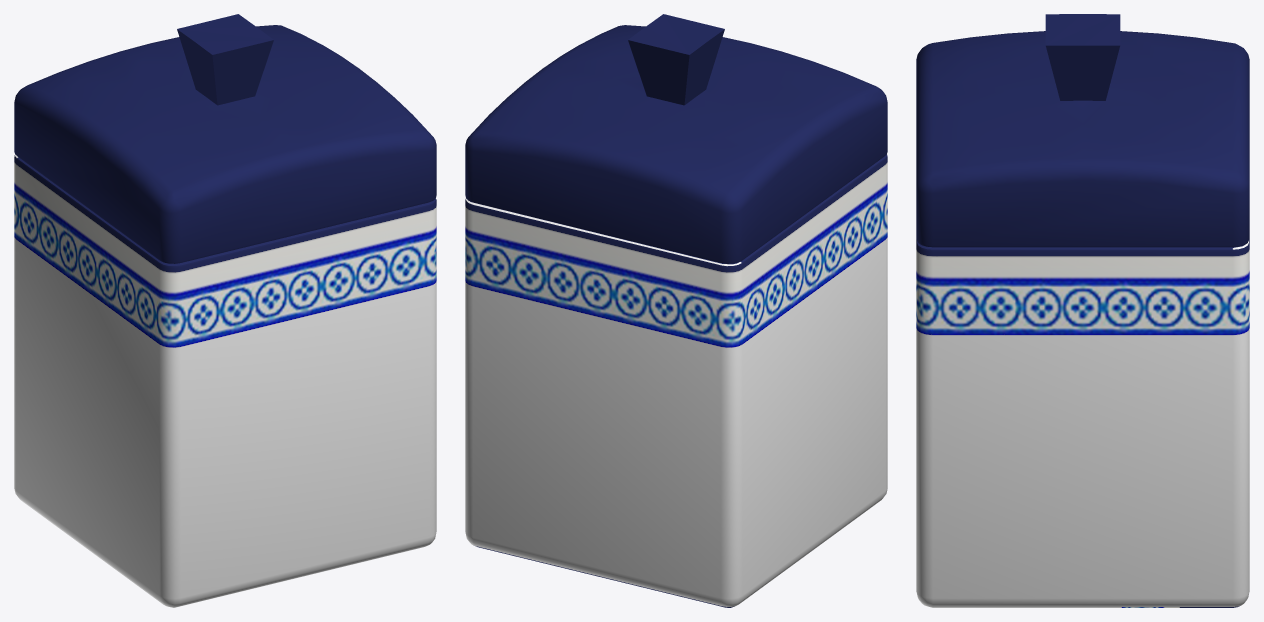
The model's file is Jar 1.FBX.
3 views of the same model, side by side, from view 1: azimuth 30°, elevation 25°; view 2: azimuth 150°, elevation 25°; view 3: azimuth 270°, elevation 25° (orthographic). The views are drawn at different scales.
Parts seen in each view (by area): view 1: Jar 1; view 2: Jar 1; view 3: Jar 1.
Boxes of the visible parts, <box> form: Jar 1: <box>14,14,436,607</box>; Jar 1: <box>465,14,887,607</box>; Jar 1: <box>916,14,1249,607</box>.
Bounding box in the file's own units: 10.99 × 18.68 × 10.99.
Materials: 1 (1 with a texture image).
